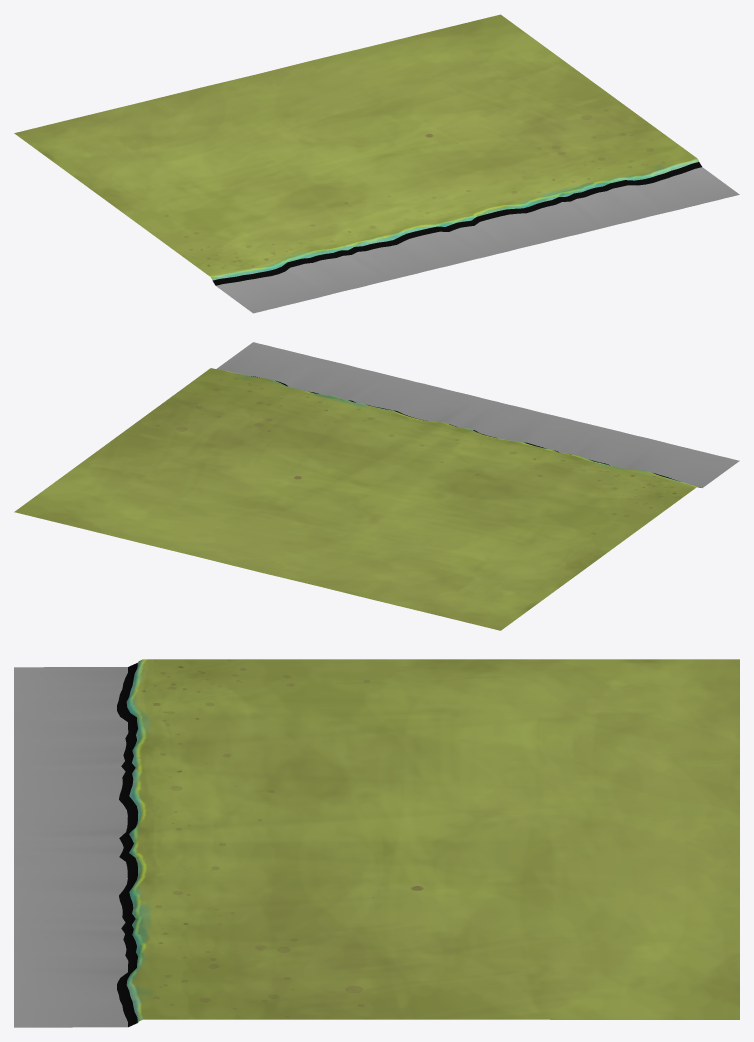
Rendered from floor01.FBX.
The picture shows the model from 3 angles, top to bottom: view 1: azimuth 30°, elevation 25°; view 2: azimuth 150°, elevation 25°; view 3: azimuth 270°, elevation 25°; orthographic projection. The views are drawn at different scales.
Parts seen in each view (by area): view 1: Plane009; view 2: Plane009; view 3: Plane009.
Boxes of the visible parts, left/top/right/bottom form: Plane009: left=14, top=14, right=739, bottom=313; Plane009: left=14, top=342, right=739, bottom=630; Plane009: left=14, top=659, right=739, bottom=1027.
Size of the model in its own units: 2102 by 23.29 by 1789.
3 materials, 1 textured.
